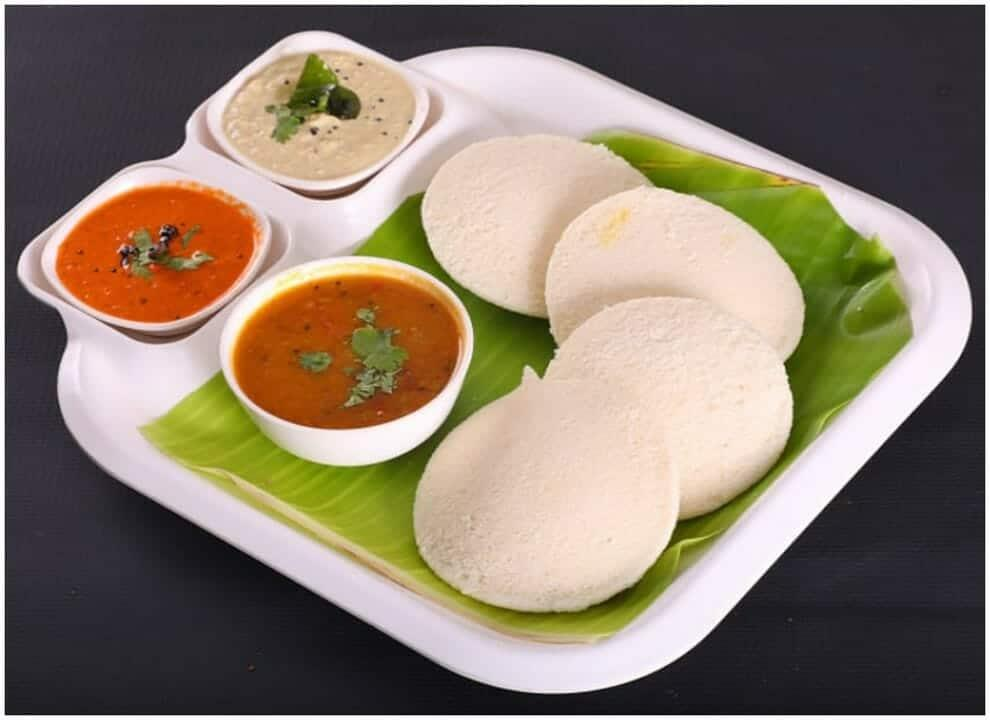coconut chutney: (237, 43, 443, 235)
idli: (475, 145, 767, 608)
sambhar: (245, 267, 446, 442)
